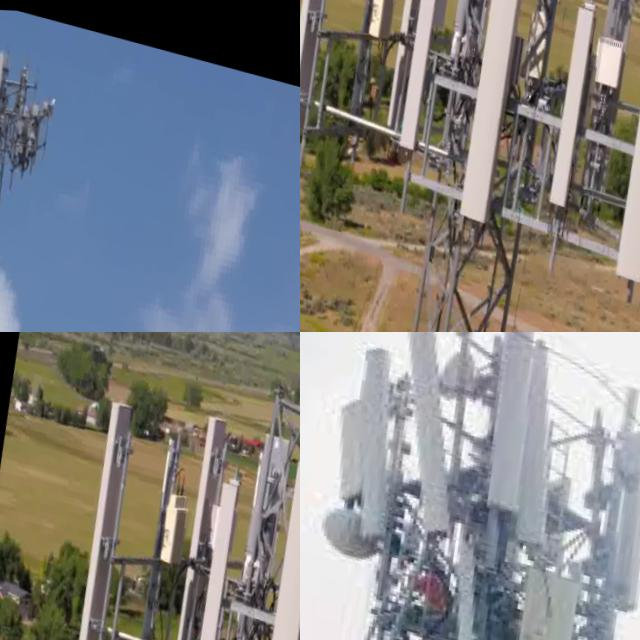GSM Antenna: (344, 332, 508, 550), (426, 0, 560, 248), (43, 398, 154, 640), (311, 332, 436, 545), (447, 332, 567, 522), (142, 412, 240, 640), (109, 422, 203, 640), (548, 0, 640, 210), (523, 0, 611, 212), (579, 0, 640, 292), (220, 438, 300, 640), (375, 0, 465, 172), (169, 470, 259, 640), (348, 0, 446, 137), (580, 410, 640, 622), (300, 0, 360, 161), (488, 561, 592, 640), (0, 41, 10, 108)
Microwave Antenna: (301, 500, 384, 573), (40, 89, 58, 117)
